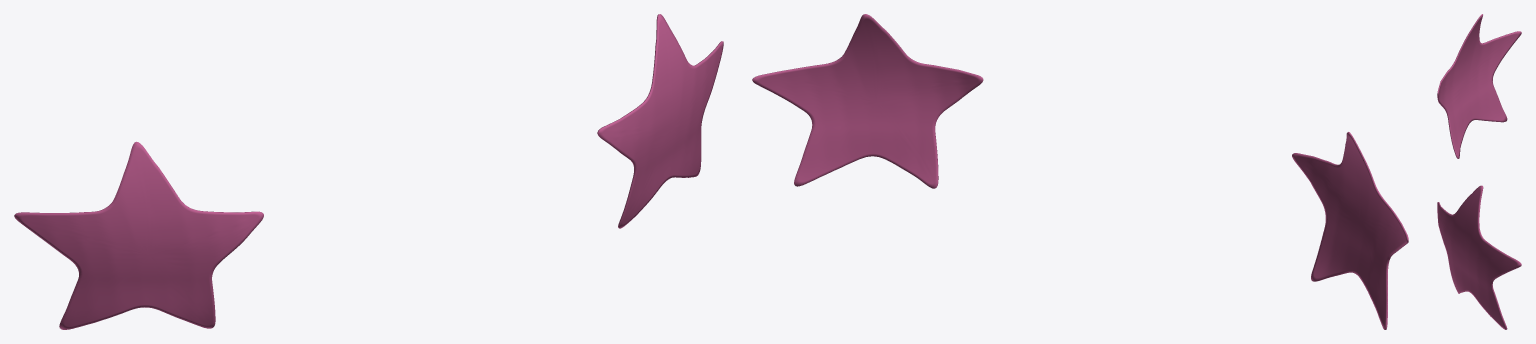
File: Feminine-bandeau-top.glb
3 renders of one model, left to right at view 1: azimuth 30°, elevation 25°; view 2: azimuth 150°, elevation 25°; view 3: azimuth 270°, elevation 25°, orthographic. The views are drawn at different scales.
Visible parts, largest first — view 1: Top / star pastie192 -1, Top / star pastie192 1; view 2: Top / star pastie192 1, Top / star pastie192 -1; view 3: Top / star pastie192 -1, Top / star pastie192 1.
Part boxes in pixels (box(x1,y1,x2,y2)): Top / star pastie192 -1: box(14, 141, 263, 329); Top / star pastie192 1: box(597, 14, 723, 228); Top / star pastie192 1: box(752, 14, 983, 188); Top / star pastie192 -1: box(1292, 132, 1408, 329); Top / star pastie192 -1: box(1437, 14, 1521, 158); Top / star pastie192 1: box(1437, 185, 1521, 329).
Bounding box in the file's own units: 0.4194 × 0.1061 × 0.0644.
